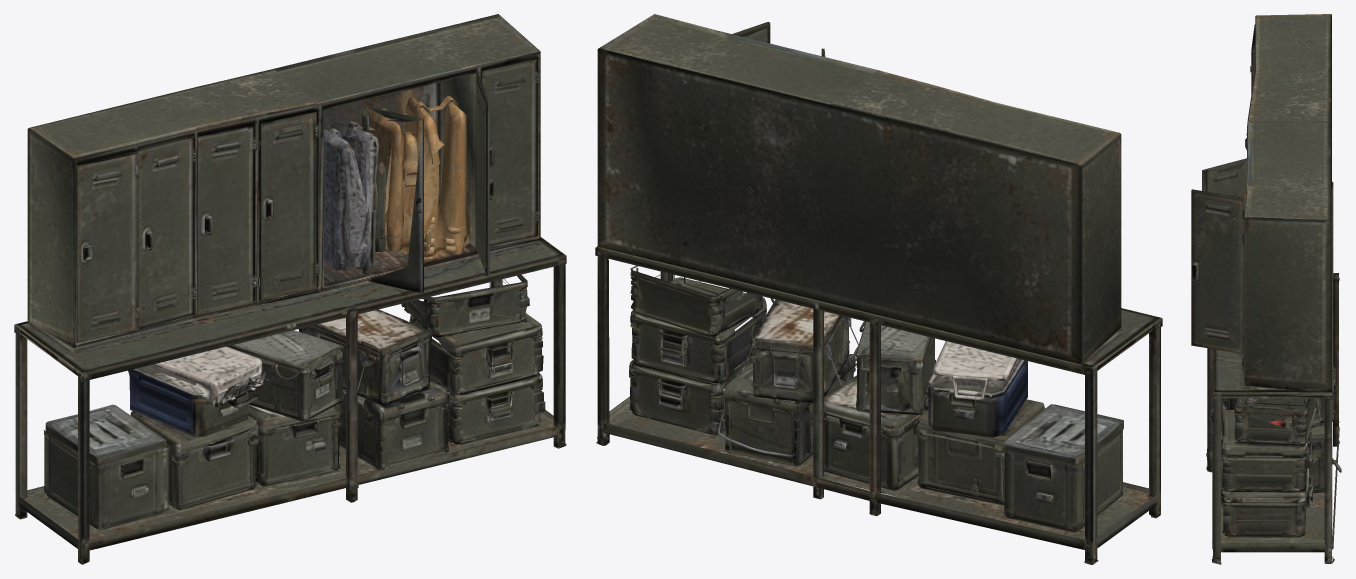
File: Locker with storage.glb
3 views of the same model, side by side, from view 1: azimuth 30°, elevation 25°; view 2: azimuth 150°, elevation 25°; view 3: azimuth 270°, elevation 25° (orthographic). The views are drawn at different scales.
Parts seen in each view (by area): view 1: Locker with storage; view 2: Locker with storage; view 3: Locker with storage.
Part boxes in pixels (<box>): Locker with storage: <box>14,14,566,564</box>; Locker with storage: <box>595,14,1162,564</box>; Locker with storage: <box>1191,14,1341,564</box>.
Size of the model in its own units: 0.9995 by 0.7612 by 0.3003.
1 material, 1 textured.
